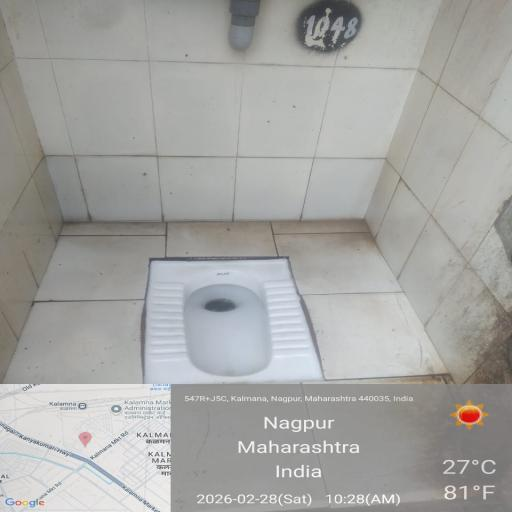clean_floor: (23, 58, 500, 198)
partial_dirty_floor: (10, 194, 408, 263), (394, 237, 512, 380), (0, 266, 141, 383), (370, 0, 512, 90), (0, 0, 131, 43)
partial_dirty_indian: (146, 263, 317, 383)
